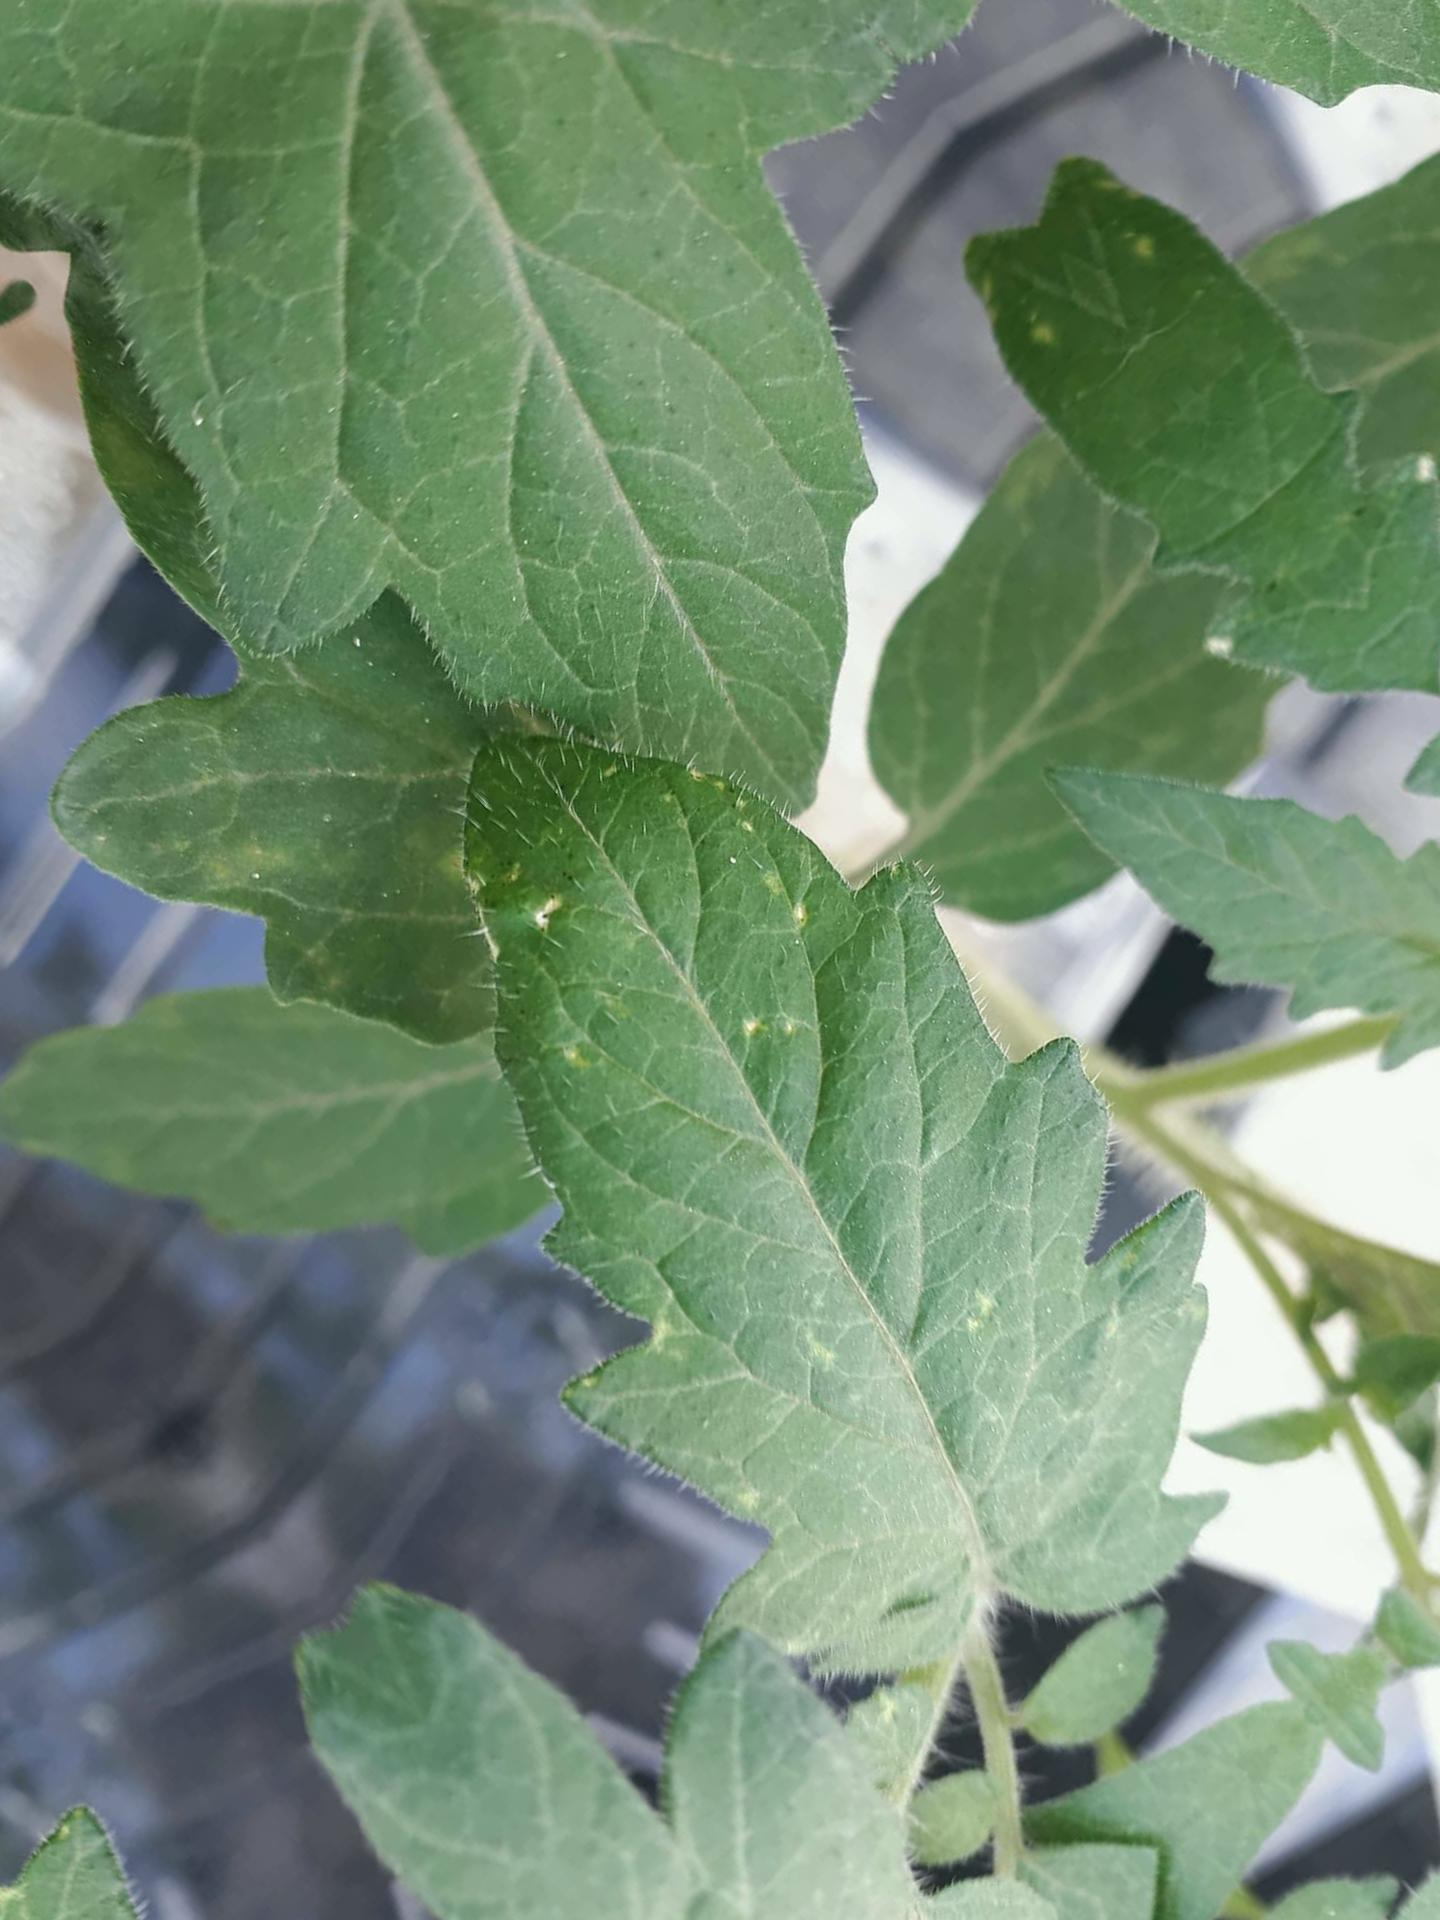Tomato mold leaf: (205, 549, 1434, 1835), (0, 0, 1248, 1043)
